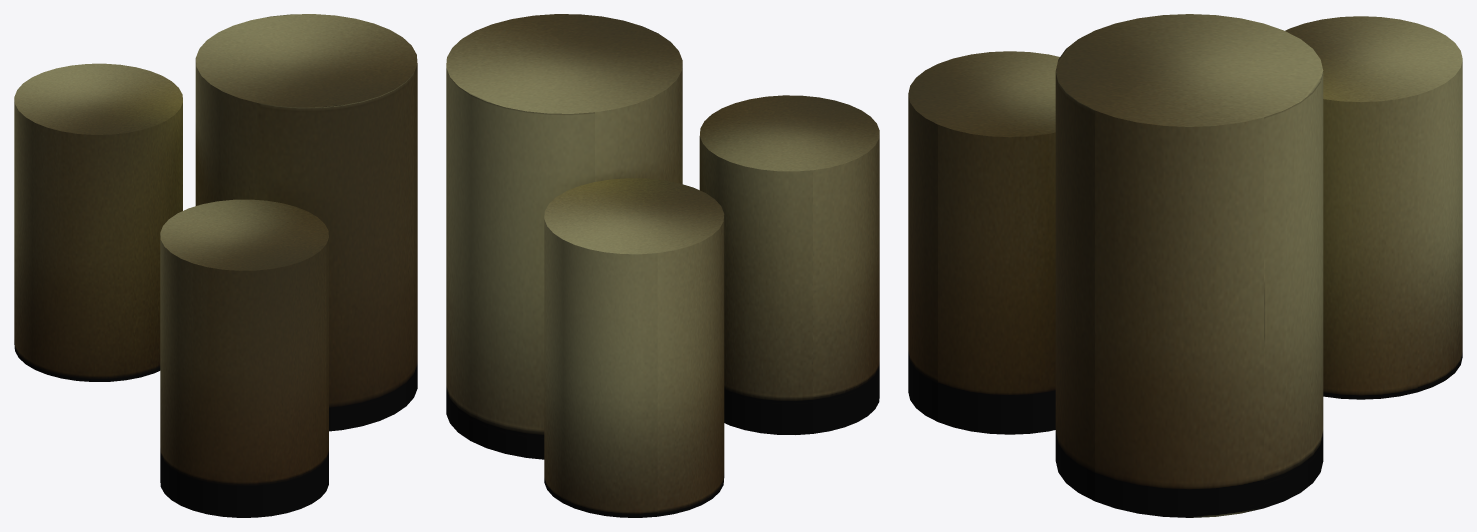
3 views of the same model, side by side, from view 1: azimuth 30°, elevation 25°; view 2: azimuth 150°, elevation 25°; view 3: azimuth 270°, elevation 25° (orthographic). The views are drawn at different scales.
Visible parts, largest first — view 1: Room; view 2: Room; view 3: Room.
Part boxes in pixels (x1,y1,x2,y2): Room: [14, 14, 417, 517]; Room: [446, 14, 879, 517]; Room: [908, 14, 1462, 517].
Size of the model in its own units: 1.56 by 1.63 by 2.04.
Materials: 1 (1 with a texture image).
